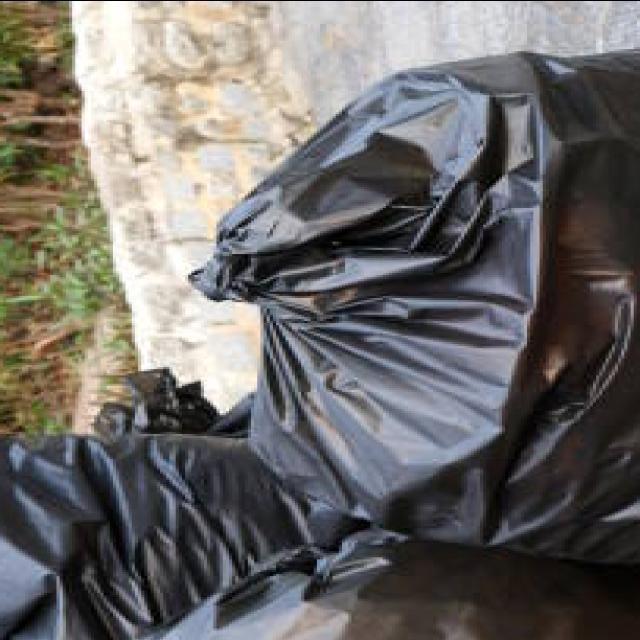Trashbag: (205, 30, 640, 552), (0, 412, 290, 640), (140, 535, 640, 640)
